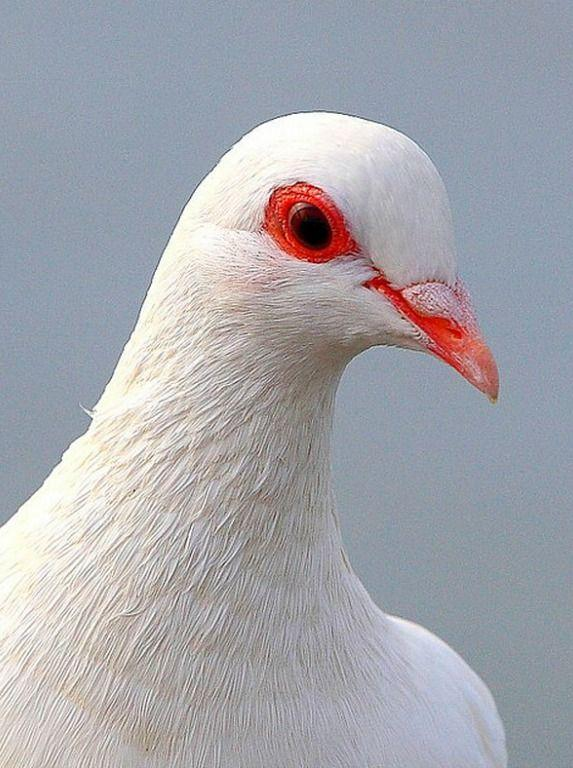Flying Rat: (1, 110, 516, 768)
